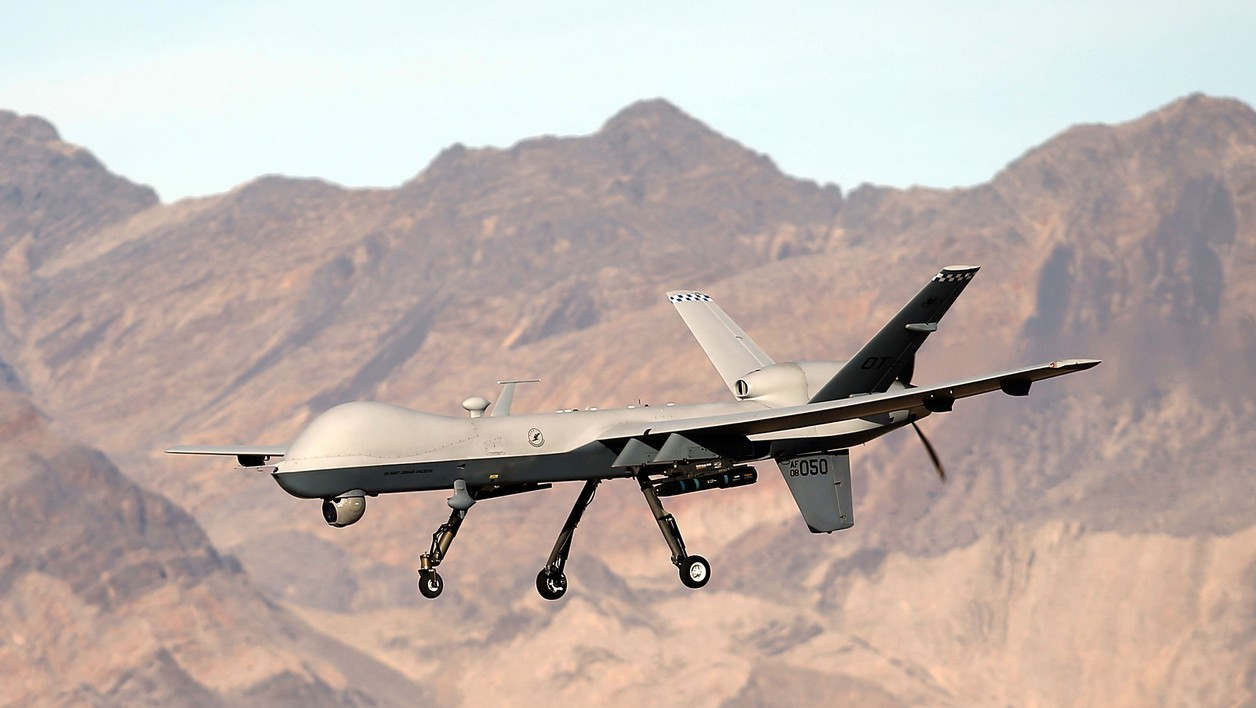Aeronef_militaire: (148, 252, 1113, 607)
